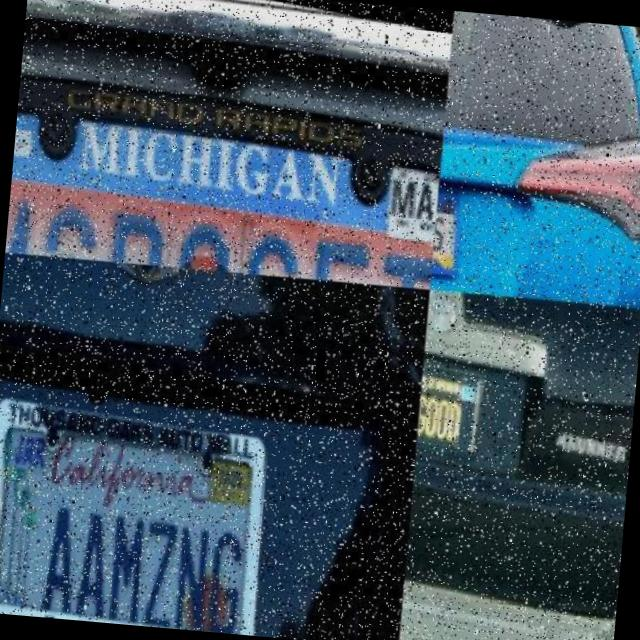LicensePlate: (5, 56, 447, 290), (0, 372, 273, 635), (415, 349, 487, 464), (430, 179, 463, 271)
